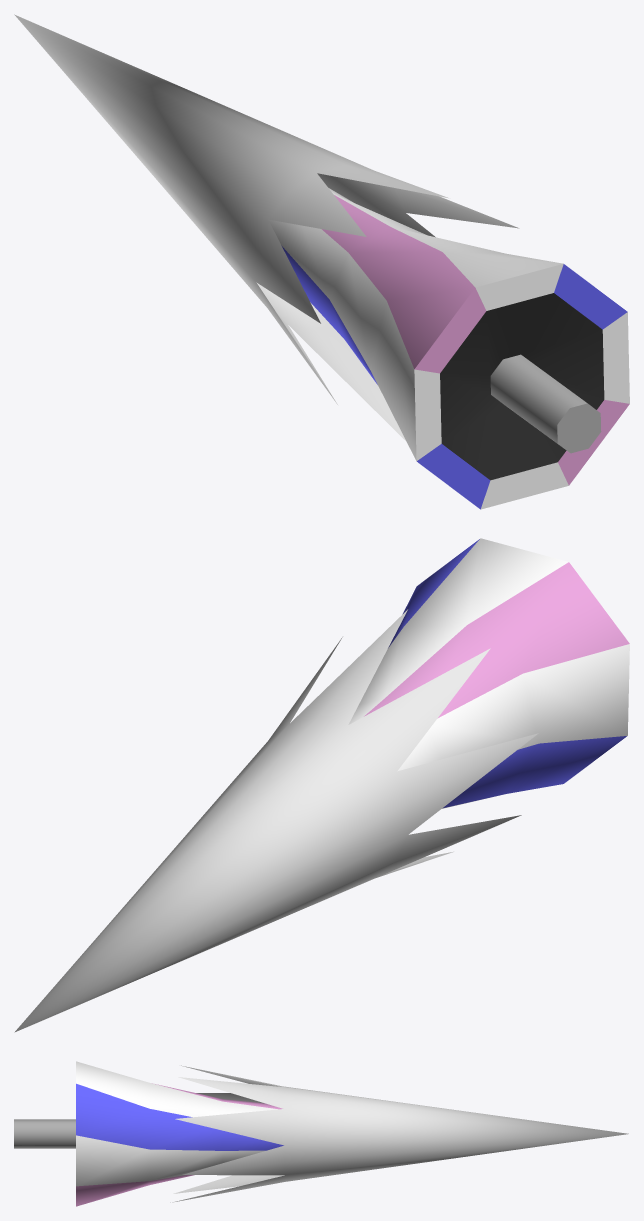
Rendered from KnightLance.fbx.
3 renders of one model, top to bottom at view 1: azimuth 30°, elevation 25°; view 2: azimuth 150°, elevation 25°; view 3: azimuth 270°, elevation 25°, orthographic. The views are drawn at different scales.
Visible parts, largest first — view 1: KnightLance, KnightLanceThrustEffect; view 2: KnightLanceThrustEffect, KnightLance; view 3: KnightLanceThrustEffect, KnightLance.
Part boxes in pixels (<box>): KnightLance: <box>268,188,629,509</box>; KnightLanceThrustEffect: <box>14,14,519,440</box>; KnightLanceThrustEffect: <box>14,609,538,1032</box>; KnightLance: <box>348,538,629,808</box>; KnightLanceThrustEffect: <box>170,1065,628,1202</box>; KnightLance: <box>14,1061,283,1206</box>.
Bounding box in the file's own units: 1.89 × 8.54 × 1.96.
